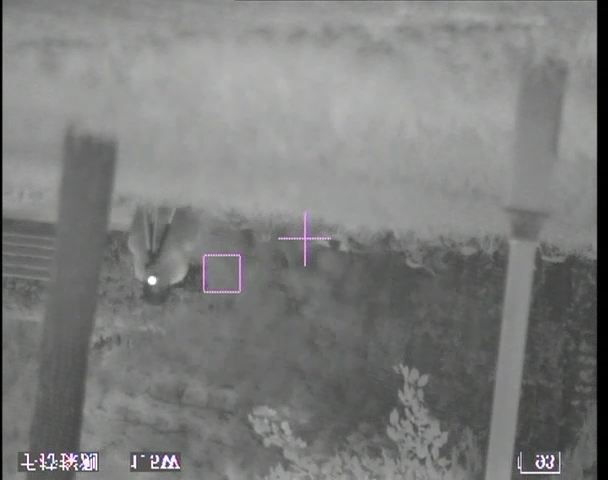my: (144, 274, 159, 287)
